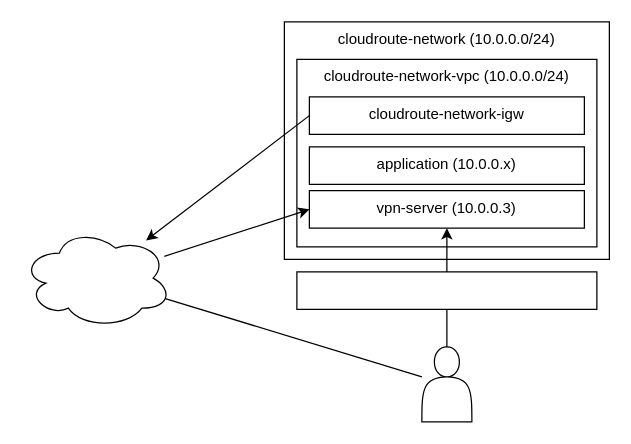
Some shapes in this 631 by 444 pixel diagram are drawn without their labels. The shapes that lost their labels are listed below. From the top down, each one's centre as x and y in pixels, then its label:
At [96,277]: "Internet".
At [446,290]: "VPN Clients (10.0.1.0/24)".
